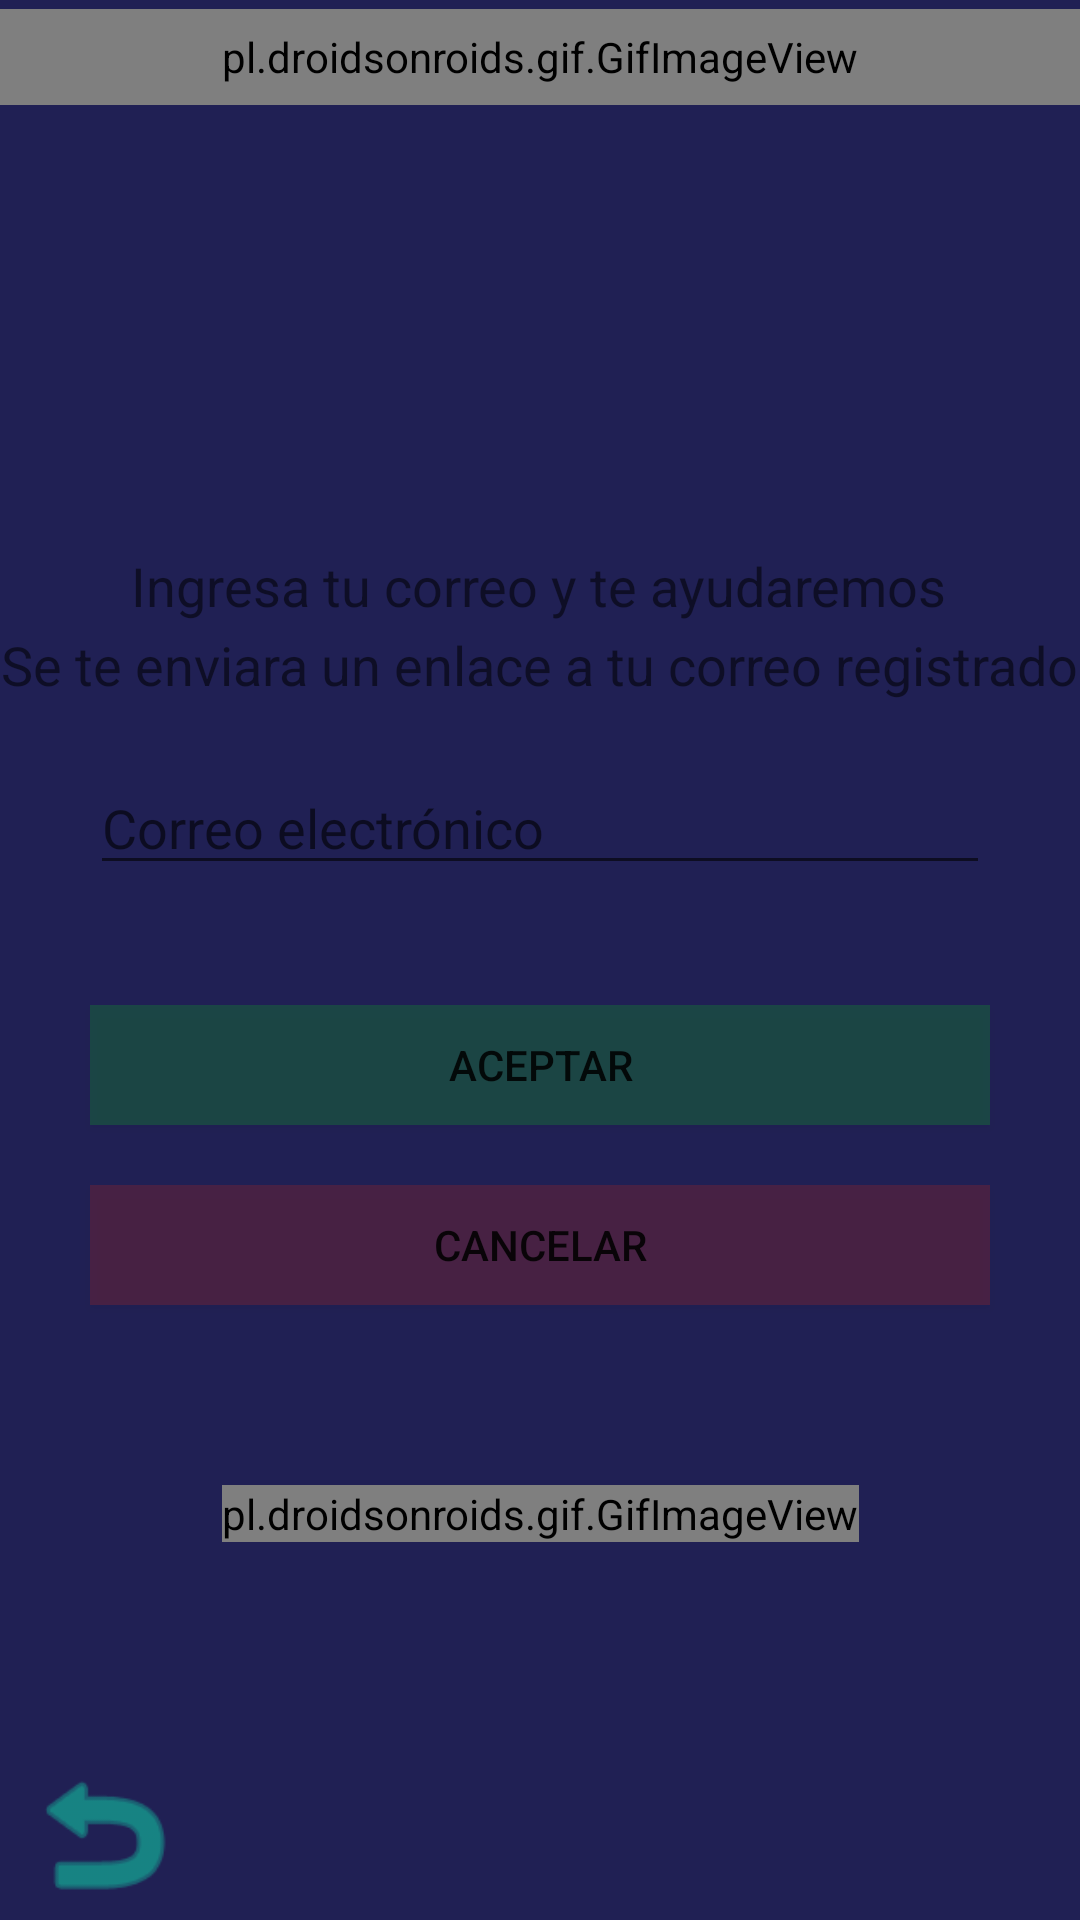

Point at icon controls on the screen. Image size 1080 × 1920, points as (x,y).
revert: (105,1835)
